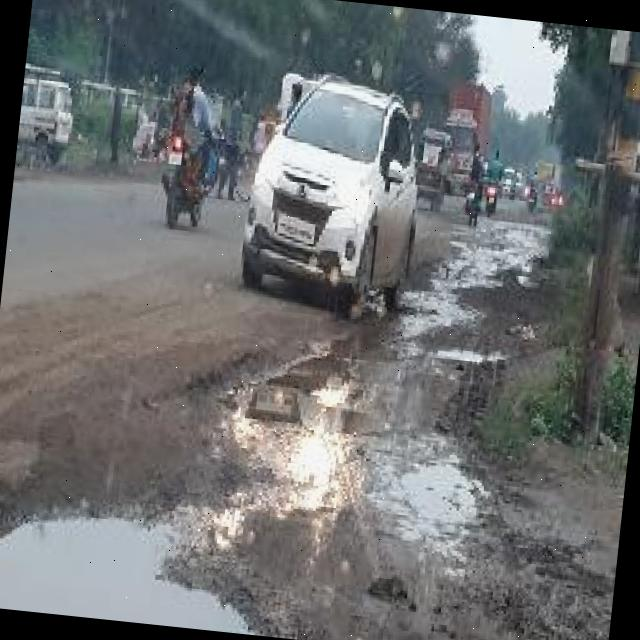stagnation: (223, 292, 467, 531), (0, 480, 282, 635)
